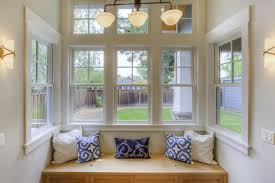window: (27, 35, 222, 110)
